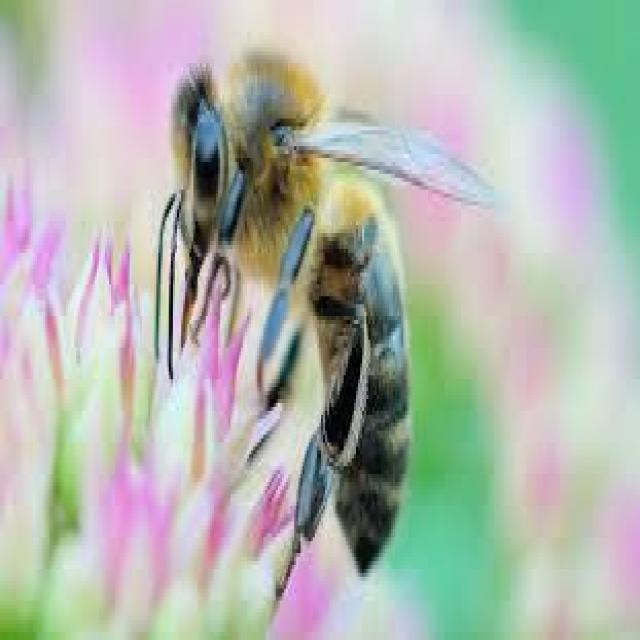Bees: (154, 51, 496, 606)
